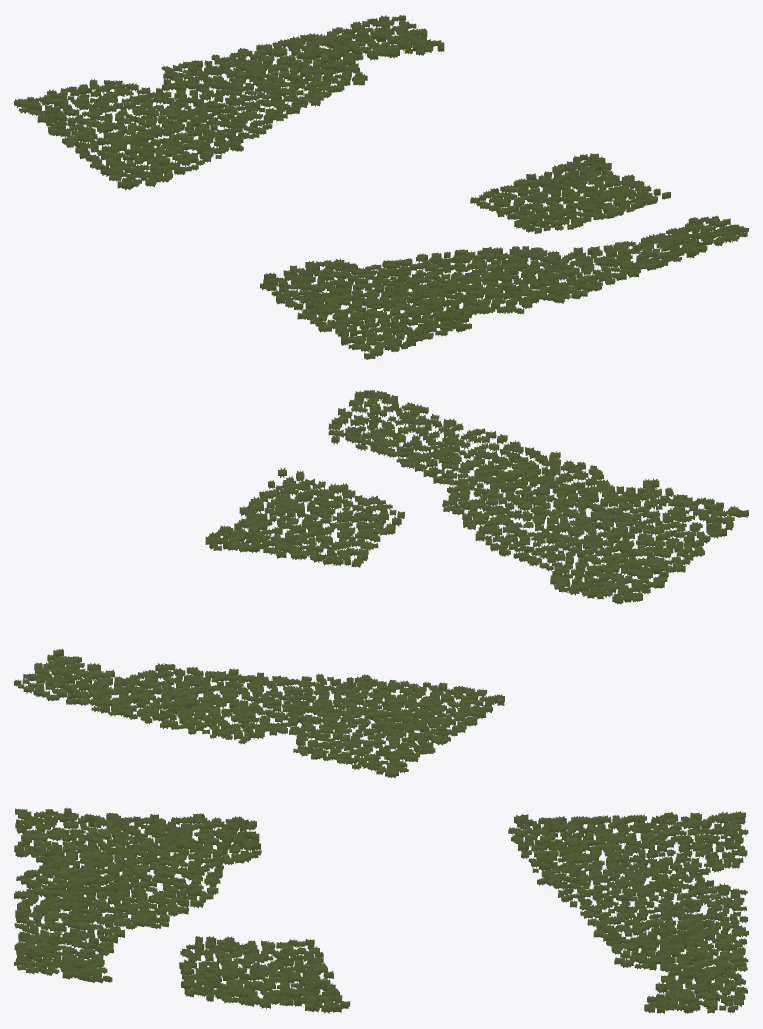
The model's file is TRB8-GRASS-CHUNK-1-3.glb.
3 renders of one model, top to bottom at view 1: azimuth 30°, elevation 25°; view 2: azimuth 150°, elevation 25°; view 3: azimuth 270°, elevation 25°, orthographic. The views are drawn at different scales.
Parts seen in each view (by area): view 1: TRB8-GRASS-CHUNK-1-3; view 2: TRB8-GRASS-CHUNK-1-3; view 3: TRB8-GRASS-CHUNK-1-3.
Boxes of the visible parts, <box> form: TRB8-GRASS-CHUNK-1-3: <box>14,14,748,359</box>; TRB8-GRASS-CHUNK-1-3: <box>14,389,748,778</box>; TRB8-GRASS-CHUNK-1-3: <box>14,807,748,1014</box>.
Bounding box in the file's own units: 25.53 × 2.78 × 40.55.
Materials: 1 (1 with a texture image).
